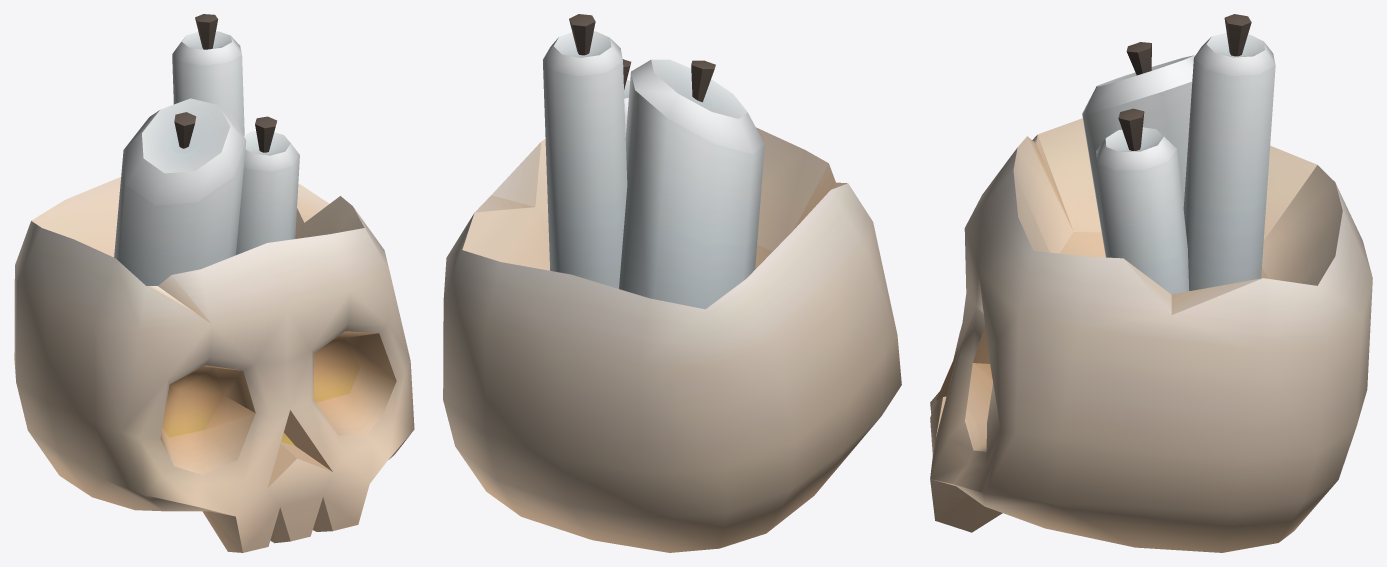
The model's file is skull_candle.glb.
The picture shows the model from 3 angles, left to right: view 1: azimuth 30°, elevation 25°; view 2: azimuth 150°, elevation 25°; view 3: azimuth 270°, elevation 25°; orthographic projection. The views are drawn at different scales.
Parts seen in each view (by area): view 1: skull_candle; view 2: skull_candle; view 3: skull_candle.
Part boxes in pixels (left/top/right/bottom): skull_candle: left=14, top=14, right=414, bottom=552; skull_candle: left=443, top=14, right=901, bottom=552; skull_candle: left=930, top=14, right=1372, bottom=552.
Bounding box in the file's own units: 0.9176 × 1.19 × 0.9361.
Materials: 1 (1 with a texture image).
